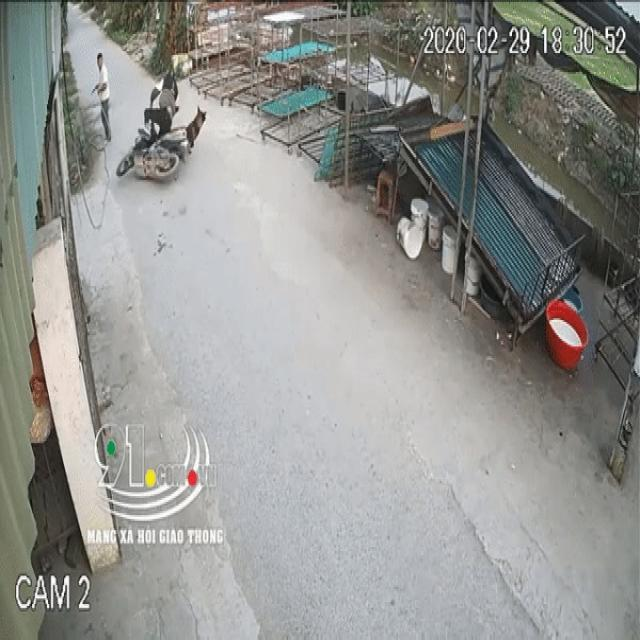multiple_accident: (114, 57, 209, 185)
